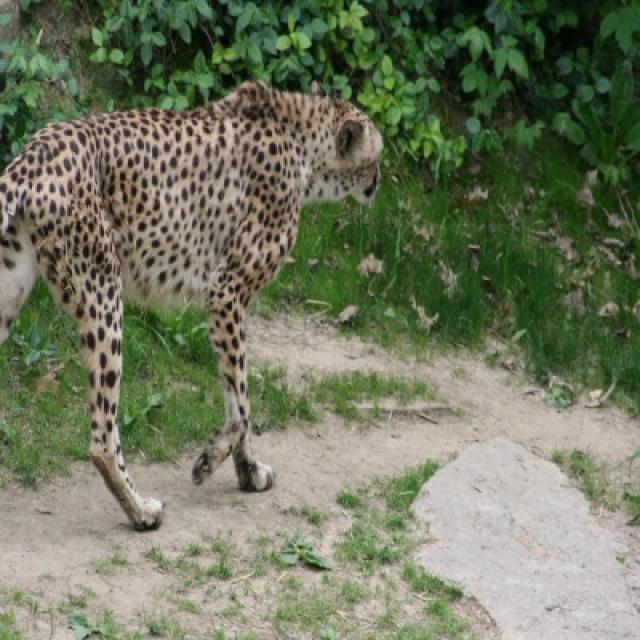Cheetah: (0, 80, 382, 526)
